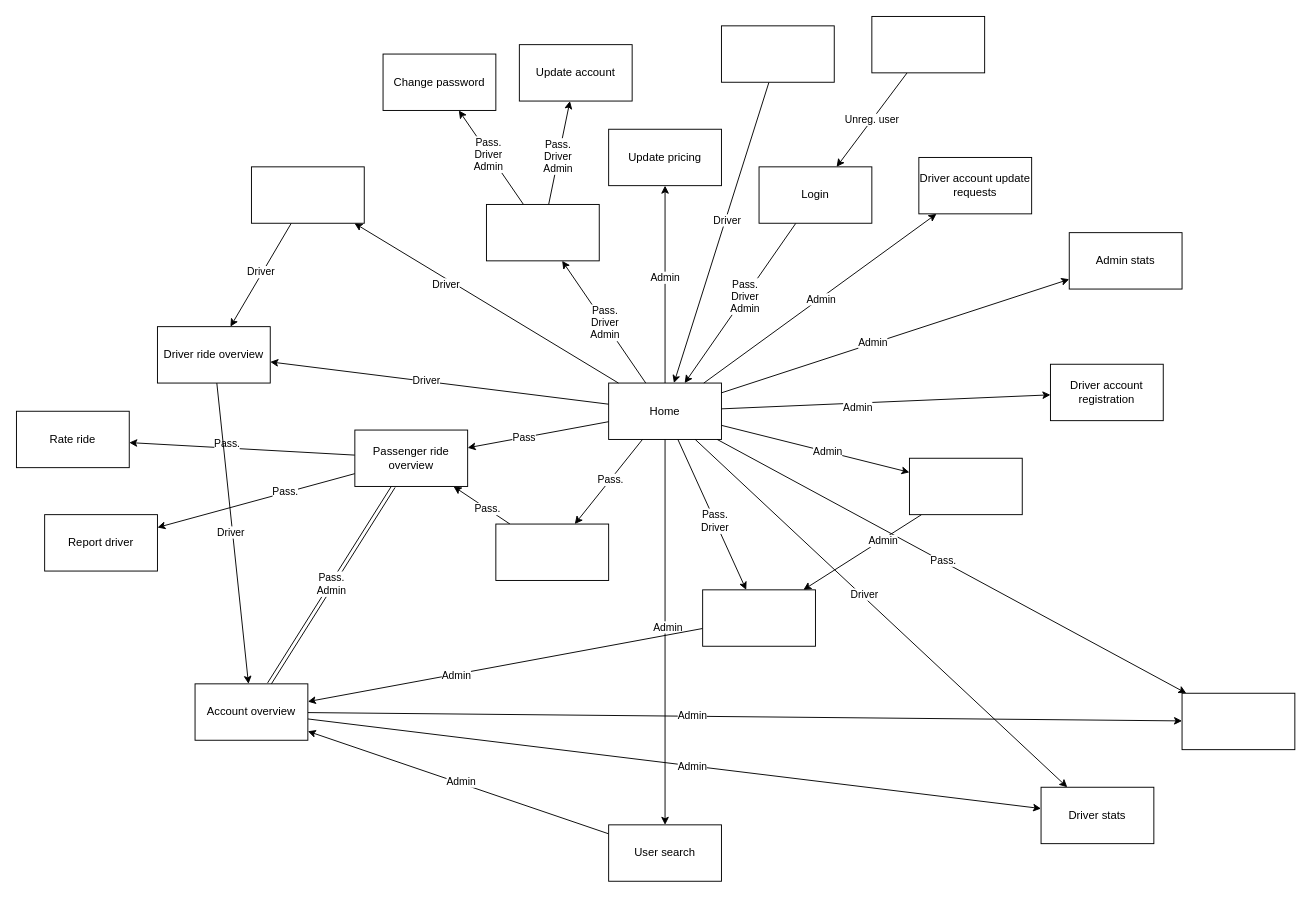
Image size: 1311x898. Some labels were removed from this diagram. The shapes that lost their labels are listed below. From the top down, each one's centre as x and y in pixels, then its label:
the point at 777,53: Driver account activation
the point at 928,44: Home (unregistered)
the point at 307,194: Driver ride history
the point at 542,232: My account
the point at 965,486: Chat list
the point at 552,551: Passenger ride history
the point at 758,617: Chat
the point at 1238,721: Passenger stats
